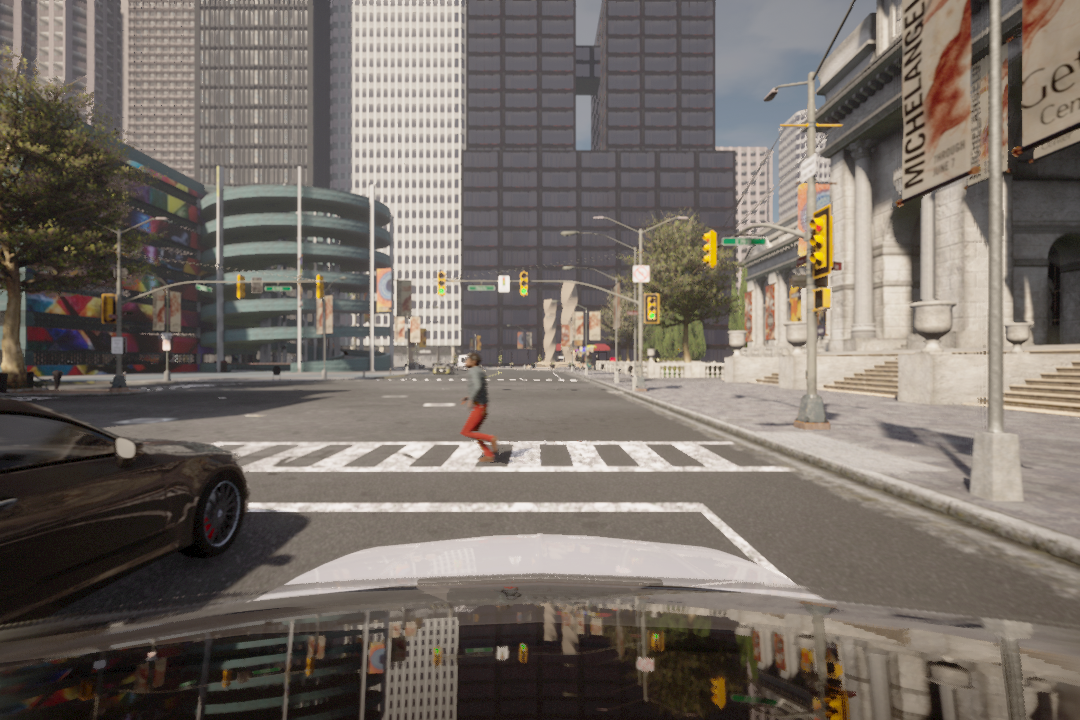TrafficLight: (807, 207, 833, 274), (700, 230, 717, 268), (644, 294, 661, 326), (517, 267, 528, 297), (435, 267, 447, 294)
TrafficSign: (633, 264, 654, 280)
walkside: (191, 441, 806, 481)
